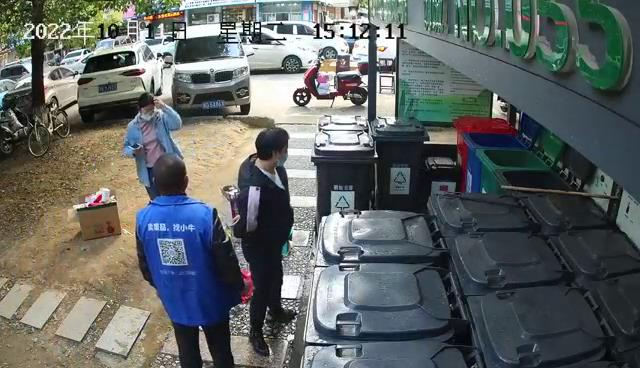person: (220, 127, 296, 357)
worker: (134, 152, 246, 368), (124, 91, 187, 203)
zhizhipin: (66, 186, 124, 240)
